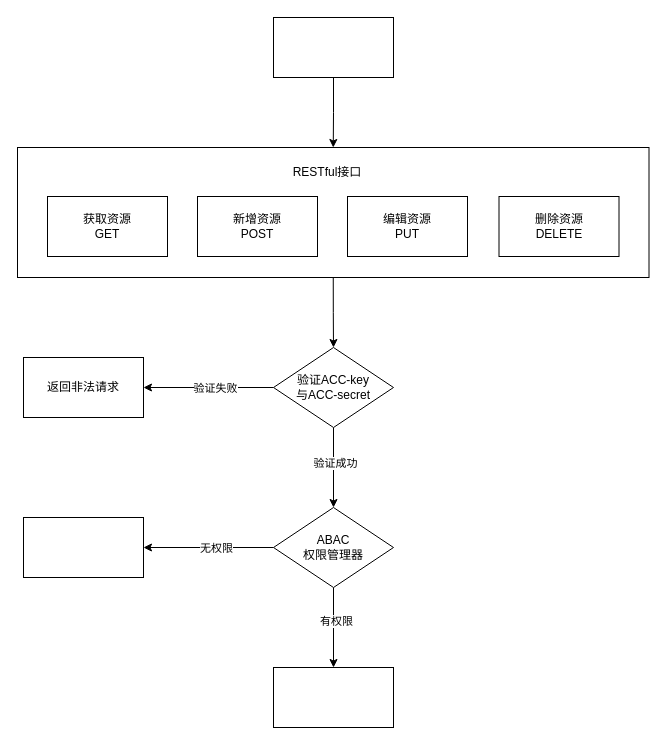
Image size: 667x745. Some labels were removed from this diagram. Each missing label, with the centre of its shape:
"执行对应操作" belongs at pixel 333 697.
"用户请求" belongs at pixel 333 47.
"返回无权限" belongs at pixel 83 547.
